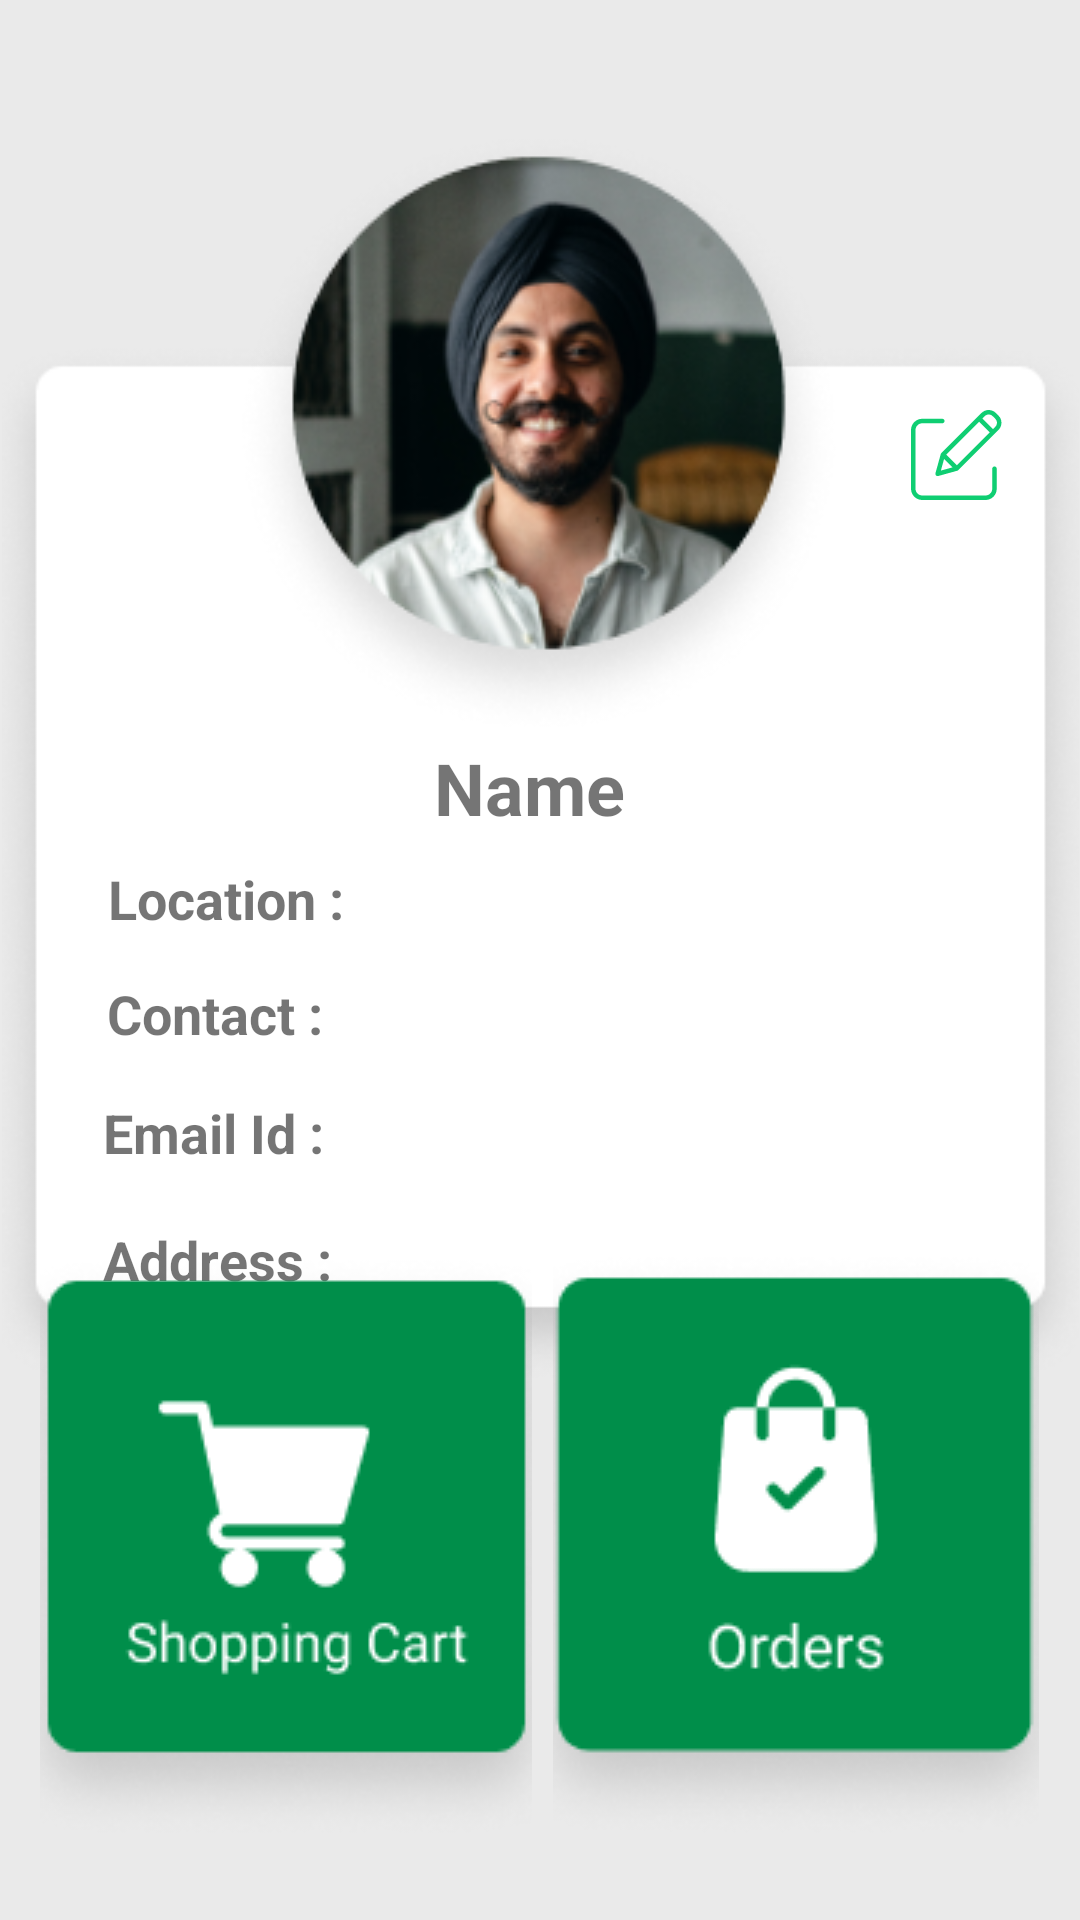

Named icons in this screenshot (1080px×1920px) and their bounding boxes, Rect(x1, y1, x2, y2):
edit: Rect(911, 410, 1002, 500)
